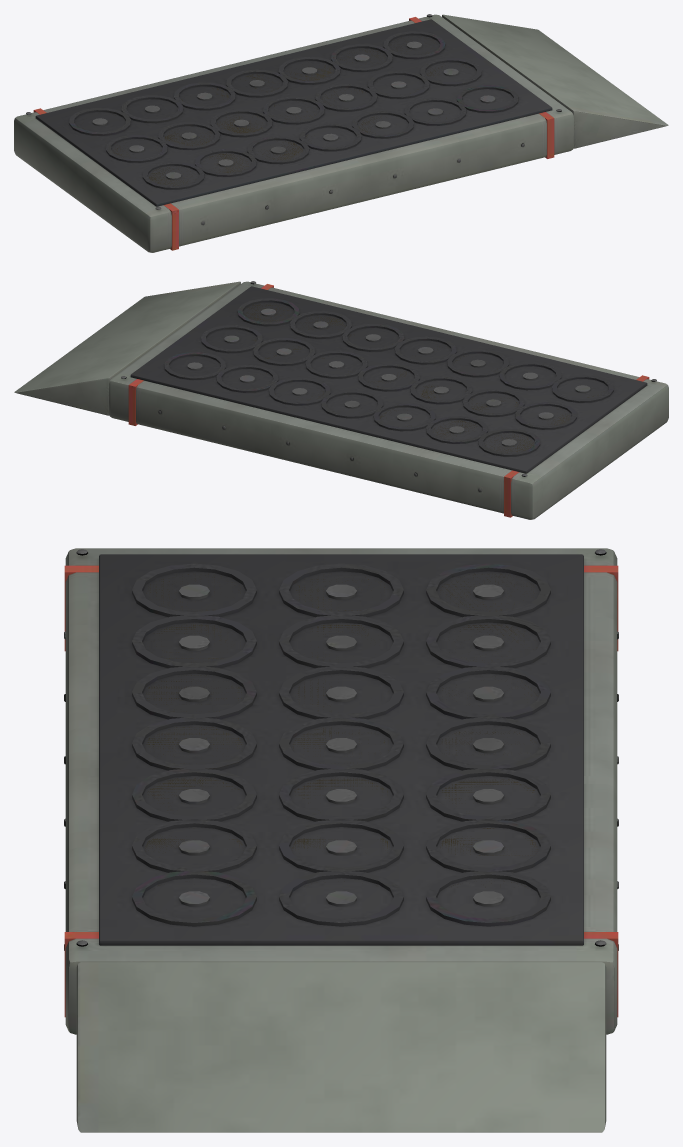
Rendered from flares_1.glb.
3 renders of one model, top to bottom at view 1: azimuth 30°, elevation 25°; view 2: azimuth 150°, elevation 25°; view 3: azimuth 270°, elevation 25°, orthographic. The views are drawn at different scales.
Visible parts, largest first — view 1: flares_1; view 2: flares_1; view 3: flares_1.
Part boxes in pixels (box(x1,y1,x2,y2)): flares_1: box(14, 14, 668, 252); flares_1: box(14, 281, 668, 519); flares_1: box(64, 548, 618, 1132).
Size of the model in its own units: 0.6133 by 0.0491 by 0.282.
Materials: 5 (5 with a texture image).
